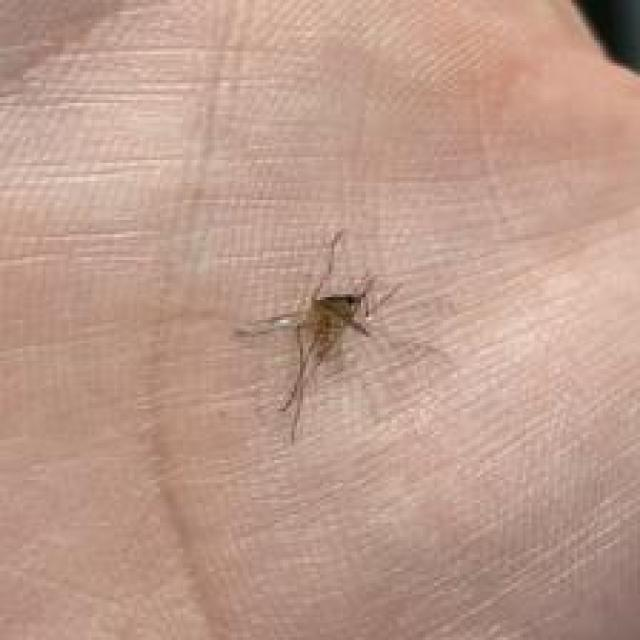Culex: (233, 227, 407, 444)
